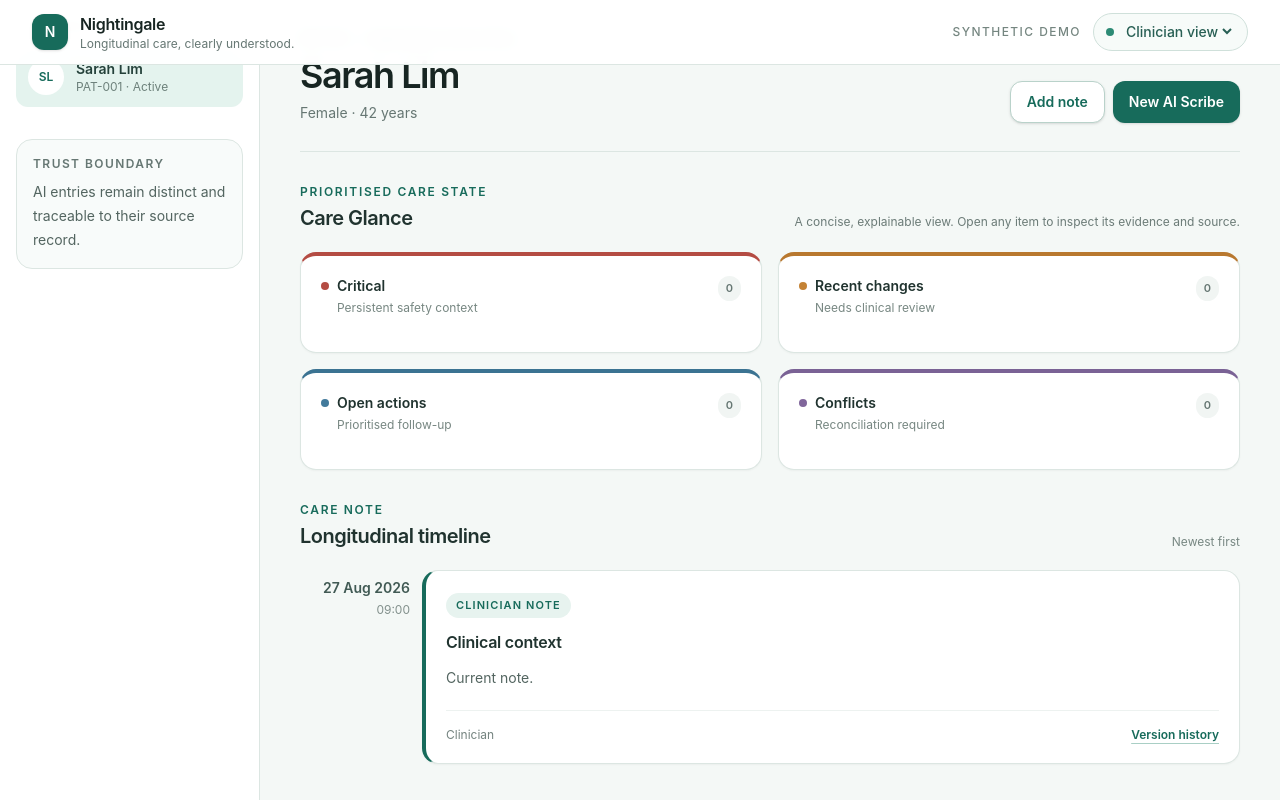
Test: Nightingale application shell › saves a new revision and reports a stale version without overwriting
(page scrolled)
Click the button "Version history" at [1175, 734], box [1131,726,1219,742]
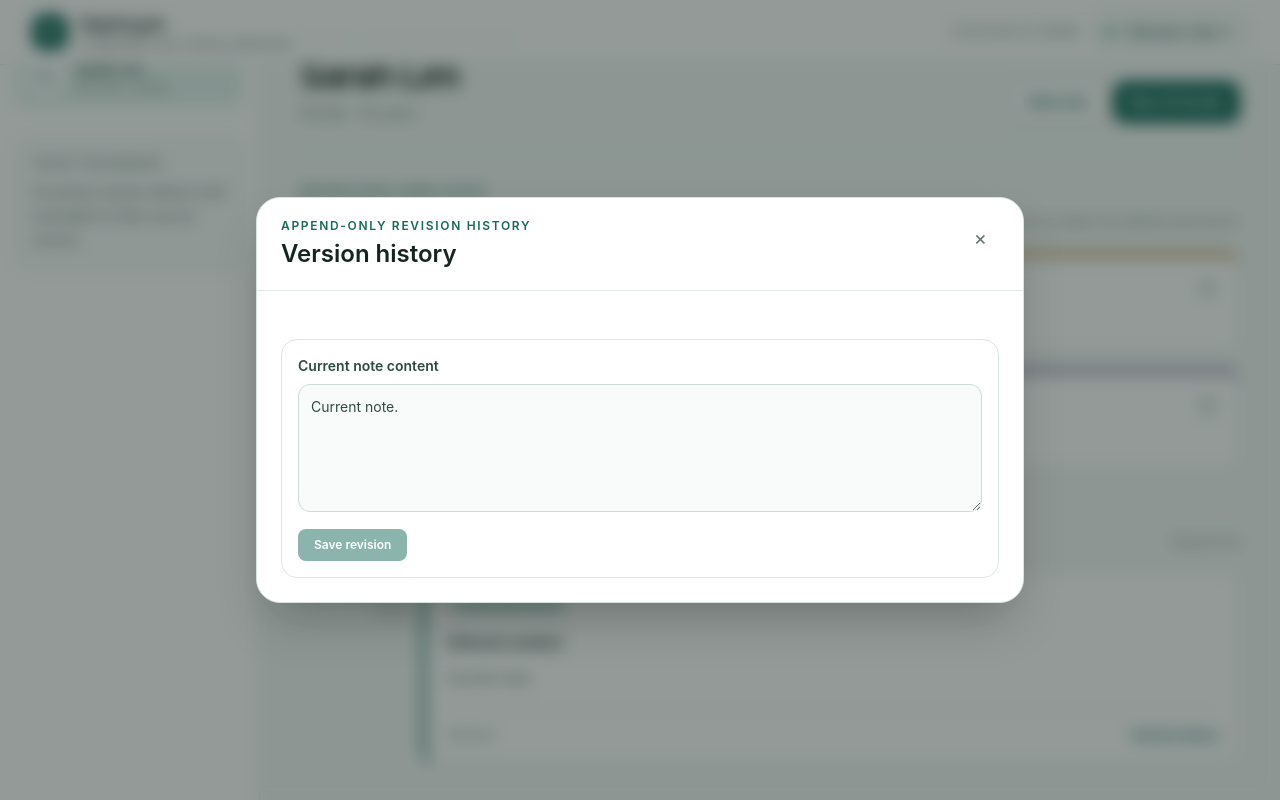
Replace the text in the text box labelled "Current note content" with "Updated follow-up plan." at [640, 448], box [298,384,982,512]
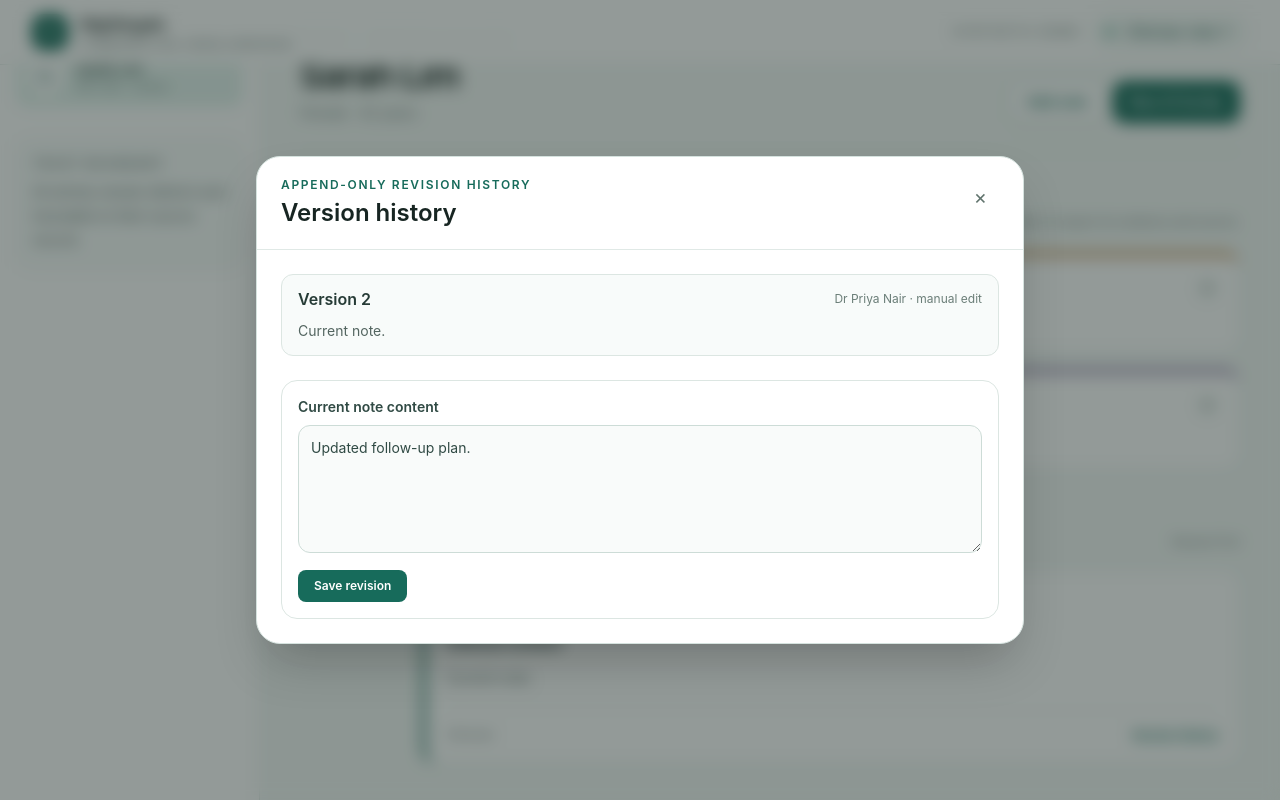
Click the button "Save revision" at [353, 586], box [298,570,407,602]
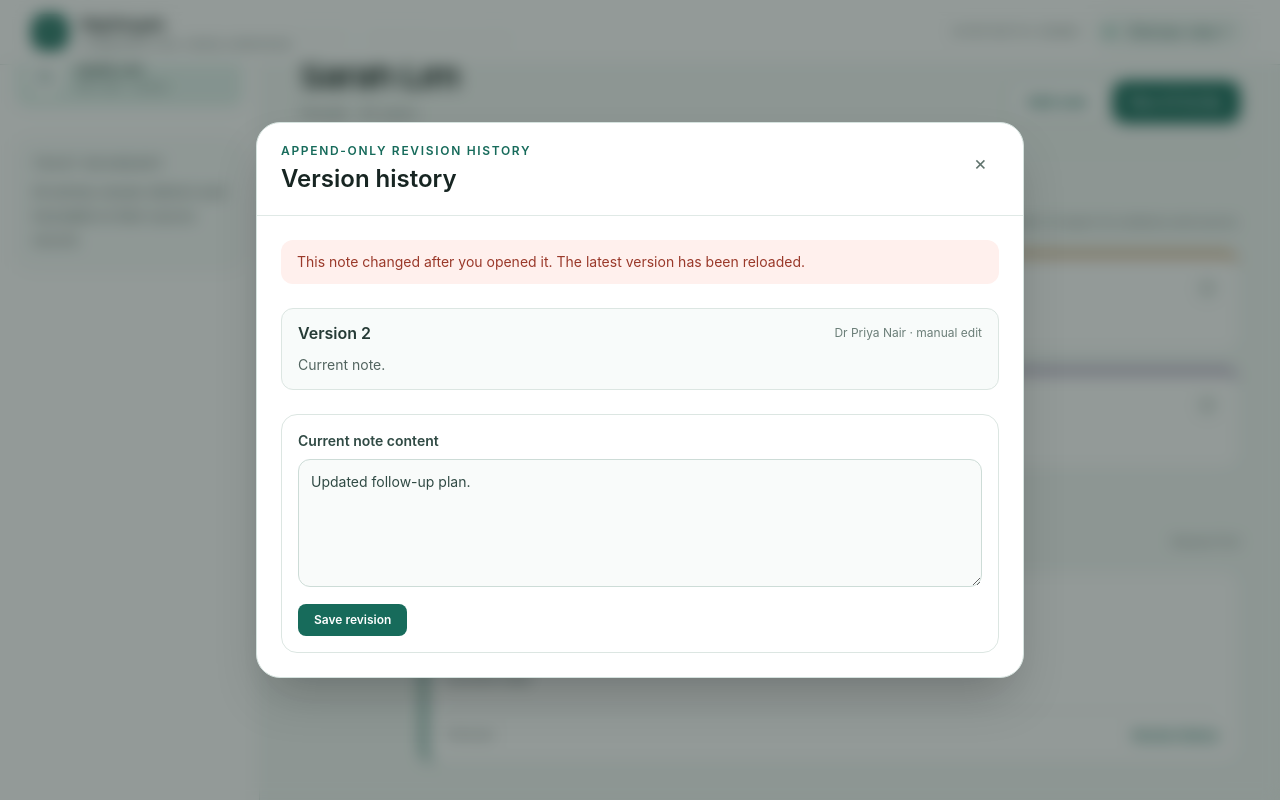
Expected: the message reads "This note changed after you opened it. The latest version has been reloaded.", [297,253,805,270]
